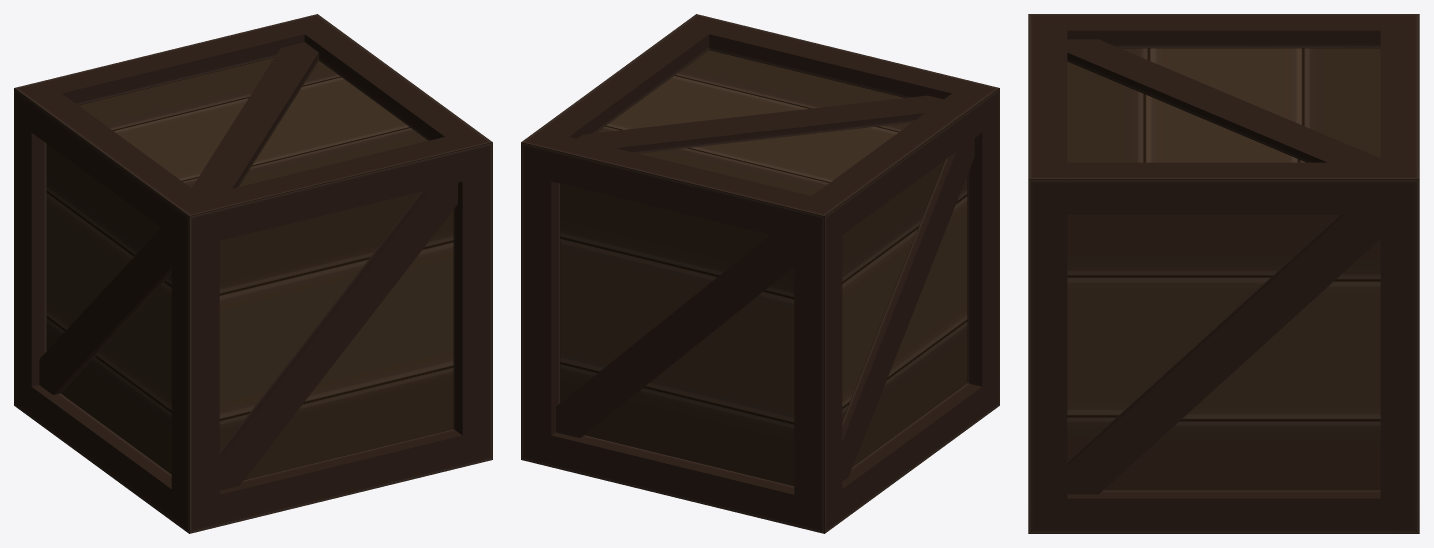
The model's file is BigCrate.fbx.
The picture shows the model from 3 angles, left to right: view 1: azimuth 30°, elevation 25°; view 2: azimuth 150°, elevation 25°; view 3: azimuth 270°, elevation 25°; orthographic projection. The views are drawn at different scales.
Parts seen in each view (by area): view 1: Crate; view 2: Crate; view 3: Crate.
Boxes of the visible parts, x1=… form: Crate: x1=14, y1=14, x2=492, y2=533; Crate: x1=521, y1=14, x2=999, y2=533; Crate: x1=1028, y1=14, x2=1419, y2=533.
Size of the model in its own units: 200 by 200 by 200.
